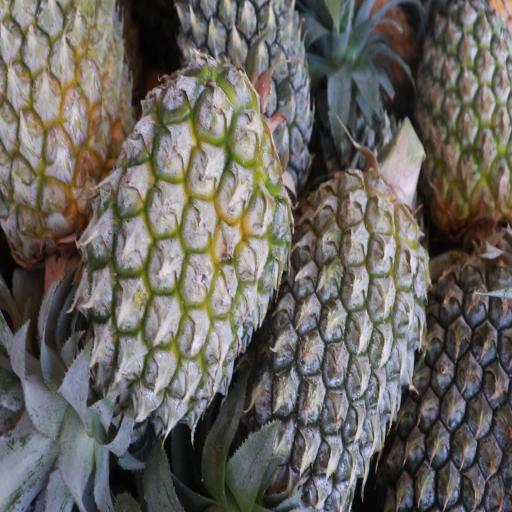------------------------------: (87, 75, 274, 421), (0, 0, 136, 236), (420, 0, 512, 229)
